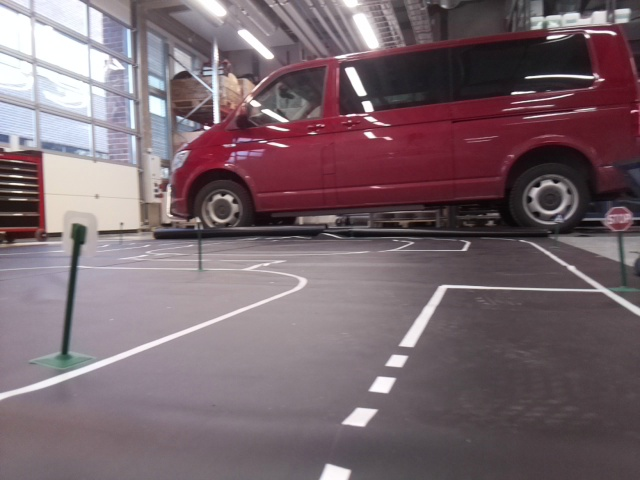Stop: (601, 204, 631, 232)
